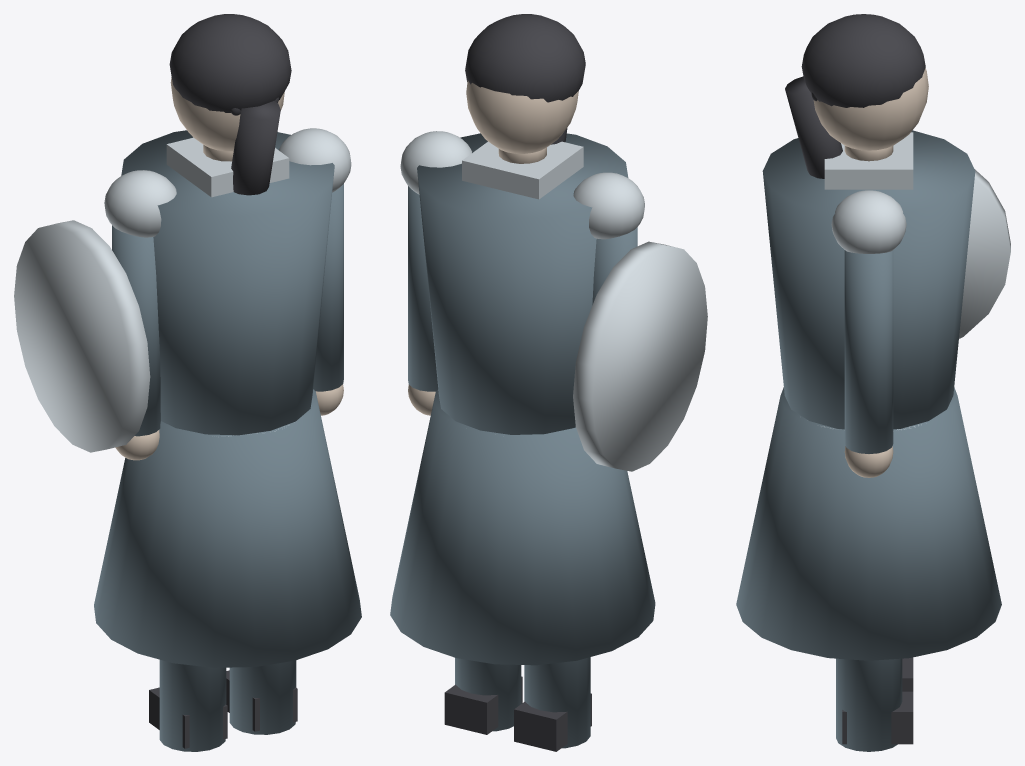
Rendered from shen-qingyi.glb.
3 views of the same model, side by side, from view 1: azimuth 30°, elevation 25°; view 2: azimuth 150°, elevation 25°; view 3: azimuth 270°, elevation 25° (orthographic).
Parts seen in each view (by area): view 1: shen-qingyi_robe, shen-qingyi_torso, shen-qingyi_shield, shen-qingyi_hair, shen-qingyi_leg-0.09, shen-qingyi_arm0.235, shen-qingyi_arm-0.235, shen-qingyi_leg0.09, shen-qingyi_shoulder-0.22, shen-qingyi_pigtail, shen-qingyi_collar, shen-qingyi_shoulder0.22 (+4 smaller); view 2: shen-qingyi_robe, shen-qingyi_torso, shen-qingyi_shield, shen-qingyi_hair, shen-qingyi_head, shen-qingyi_collar, shen-qingyi_arm0.235, shen-qingyi_leg-0.09, shen-qingyi_shoulder-0.22, shen-qingyi_leg0.09, shen-qingyi_shoulder0.22, shen-qingyi_boot0.09 (+3 smaller); view 3: shen-qingyi_robe, shen-qingyi_torso, shen-qingyi_arm0.235, shen-qingyi_hair, shen-qingyi_leg0.09, shen-qingyi_shield, shen-qingyi_head, shen-qingyi_shoulder0.22, shen-qingyi_collar, shen-qingyi_pigtail, shen-qingyi_boot0.09, shen-qingyi_hand0.235 (+1 smaller).
Boxes of the visible parts, x1,y1,x2,y2 form: shen-qingyi_robe: (94, 389, 361, 667); shen-qingyi_torso: (121, 130, 334, 435); shen-qingyi_shield: (14, 220, 150, 452); shen-qingyi_hair: (169, 14, 291, 112); shen-qingyi_leg-0.09: (159, 660, 226, 751); shen-qingyi_arm0.235: (313, 184, 343, 391); shen-qingyi_arm-0.235: (112, 225, 160, 436); shen-qingyi_leg0.09: (229, 660, 296, 734); shen-qingyi_shoulder-0.22: (104, 170, 176, 237); shen-qingyi_pigtail: (231, 100, 280, 195); shen-qingyi_collar: (166, 137, 289, 197); shen-qingyi_shoulder0.22: (279, 128, 351, 192); shen-qingyi_robe: (390, 389, 655, 665); shen-qingyi_torso: (417, 133, 628, 434); shen-qingyi_shield: (573, 241, 707, 471); shen-qingyi_hair: (465, 14, 585, 102); shen-qingyi_head: (466, 80, 578, 153); shen-qingyi_collar: (462, 141, 583, 199); shen-qingyi_arm0.235: (408, 186, 438, 391); shen-qingyi_leg-0.09: (524, 657, 590, 748); shen-qingyi_shoulder-0.22: (573, 172, 644, 239); shen-qingyi_leg0.09: (455, 658, 521, 731); shen-qingyi_shoulder0.22: (400, 131, 471, 194); shen-qingyi_boot0.09: (444, 676, 522, 734); shen-qingyi_robe: (736, 387, 1001, 660); shen-qingyi_torso: (762, 130, 975, 429); shen-qingyi_arm0.235: (844, 250, 893, 453); shen-qingyi_hair: (801, 14, 925, 107); shen-qingyi_leg0.09: (836, 658, 902, 751); shen-qingyi_shield: (959, 169, 1010, 338); shen-qingyi_head: (813, 68, 928, 150); shen-qingyi_shoulder0.22: (831, 190, 906, 253); shen-qingyi_collar: (824, 132, 913, 189); shen-qingyi_pigtail: (785, 76, 842, 178); shen-qingyi_boot0.09: (842, 691, 913, 744); shen-qingyi_hand0.235: (844, 446, 893, 477).
Bounding box in the file's own units: 0.67 × 1.74 × 0.62.
